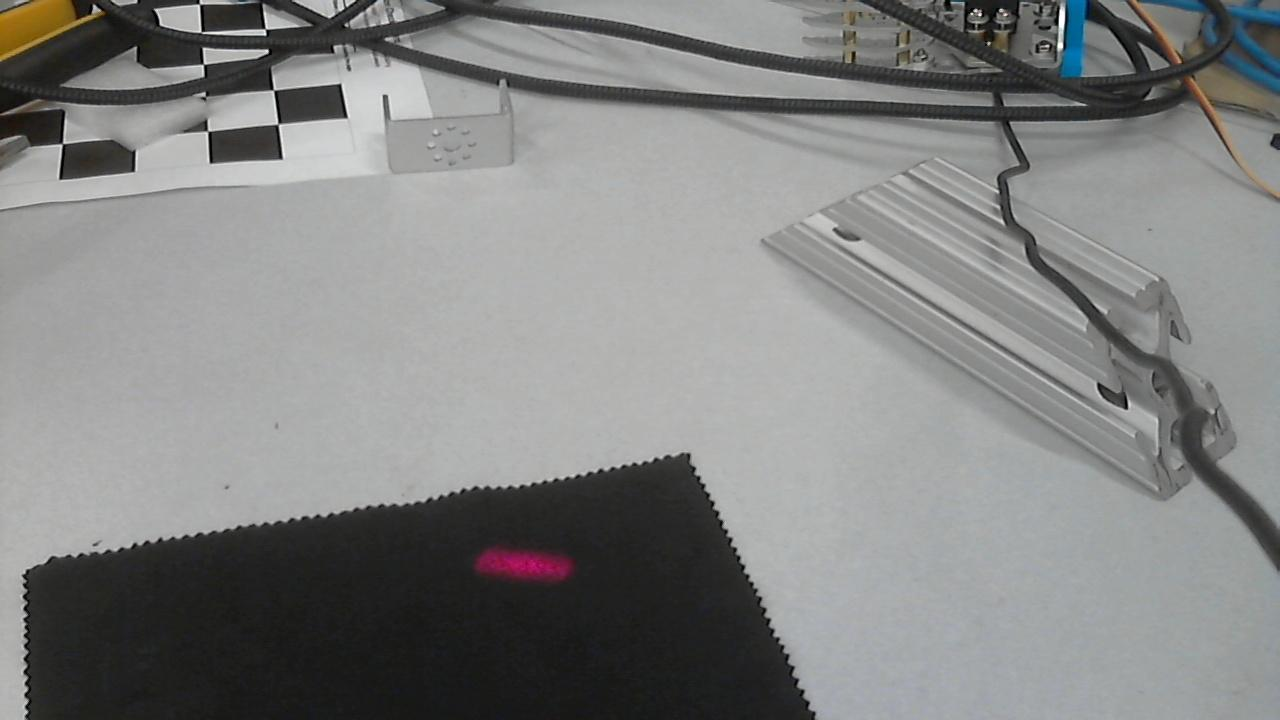Object plastic container lid - Material plastic - Color red - Pdfname ZC63DBkv6o: (436, 521, 597, 599)
